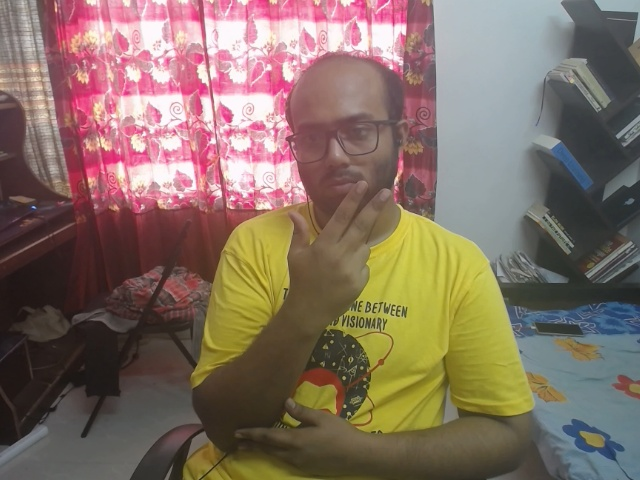eight: (265, 167, 414, 335)
